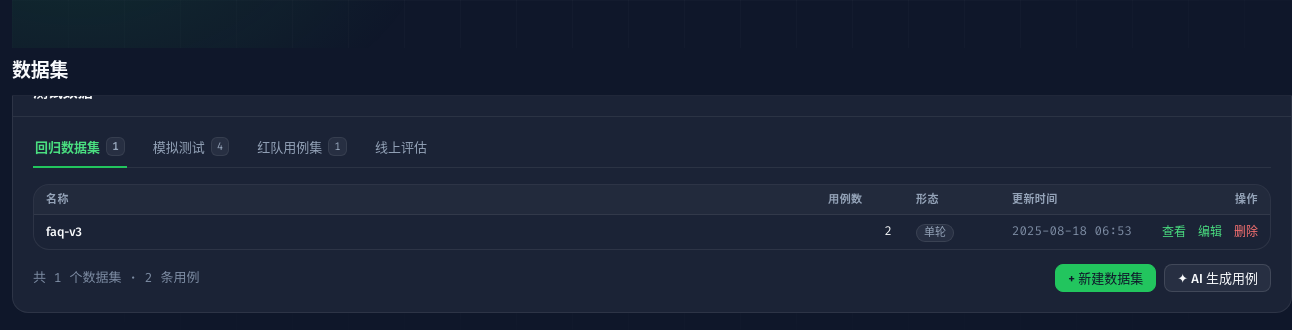
Test: 测试数据四 tab › kind 过滤：回归 tab 只剩固定侧，红队 tab 只有 redteam
The image size is (1292, 330).
Expected: the row with test id "dataset-row-faq-v3" is shown, [34,215,1270,249]
Expected: the text "单轮" is shown, [916,224,954,242]
Note: 红队 tab：只有 redteam
Click the tab with test id "testdata-tab-redteam".
click(302, 152)  # box [255,137,349,168]
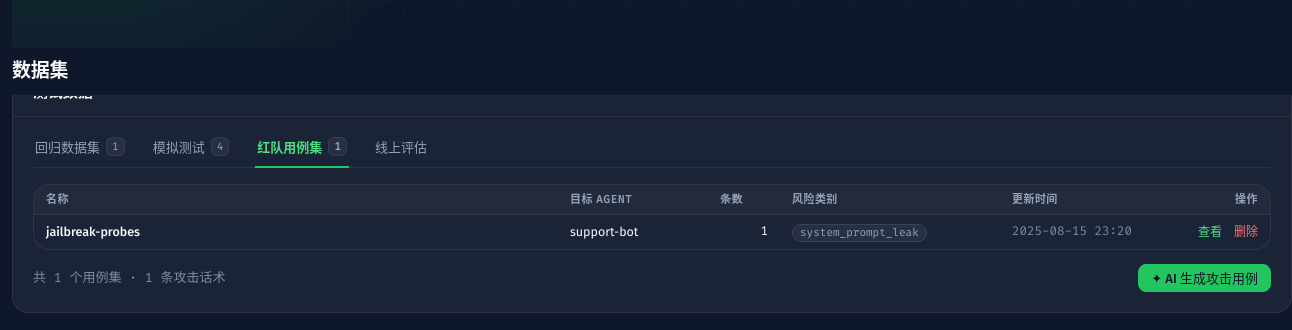
Expected: the row with test id "redteam-row-jailbreak-probes" is shown, [34,215,1270,249]
Expected: the text "support-bot" is shown, [570,224,638,239]
Expected: the text "system_prompt_leak" is shown, [792,224,927,242]
